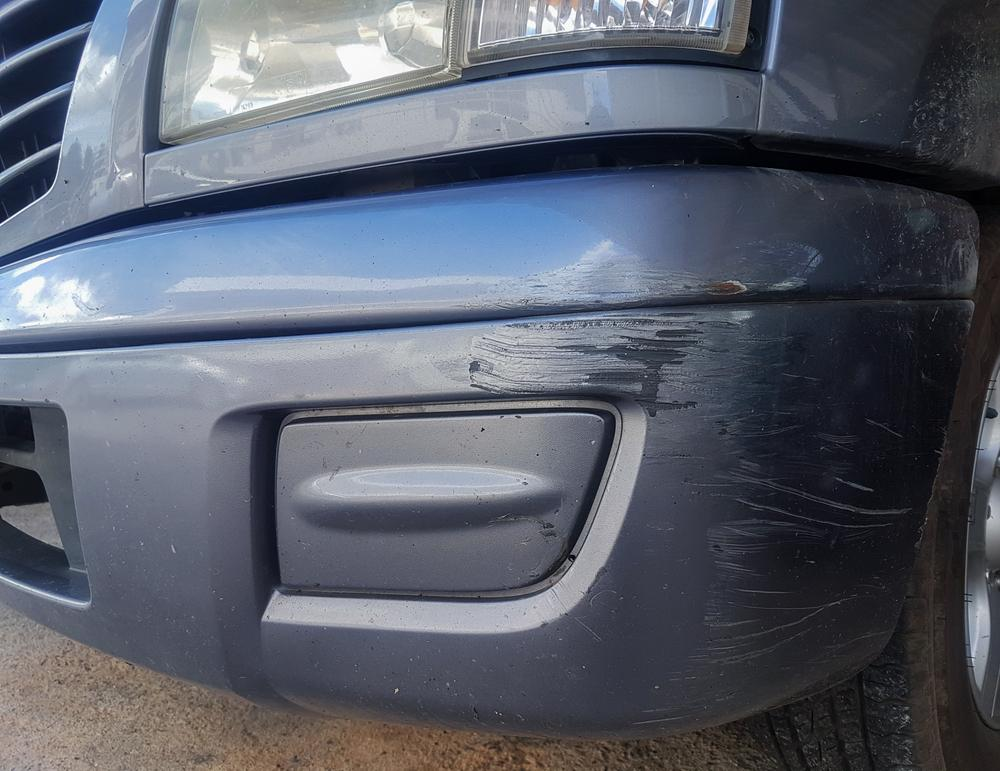scratch: (461, 237, 917, 731)
